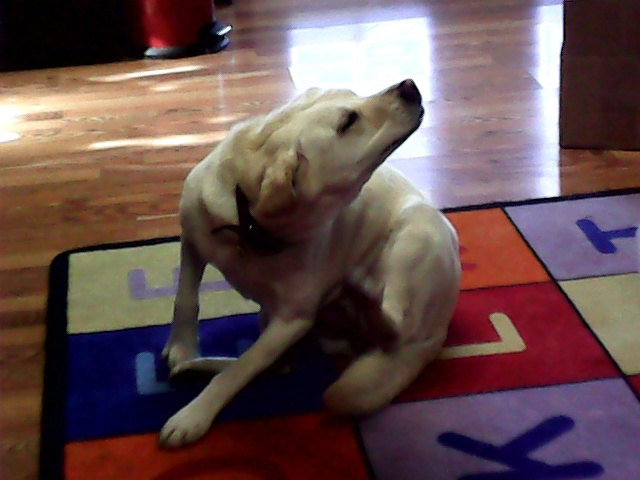dog: (156, 76, 467, 450)
